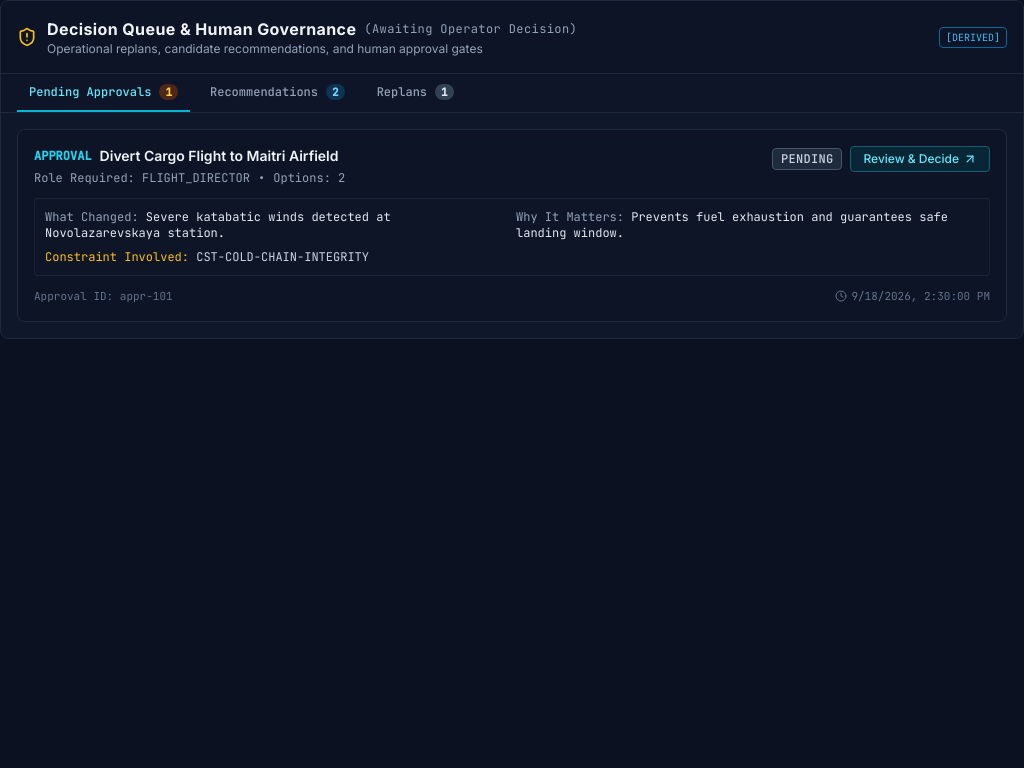
Test case: DecisionQueuePanel › switches to recommendations tab and displays candidate items
Click the tab with test id "tab-recommendations" at (277, 93), box [198,74,357,112]
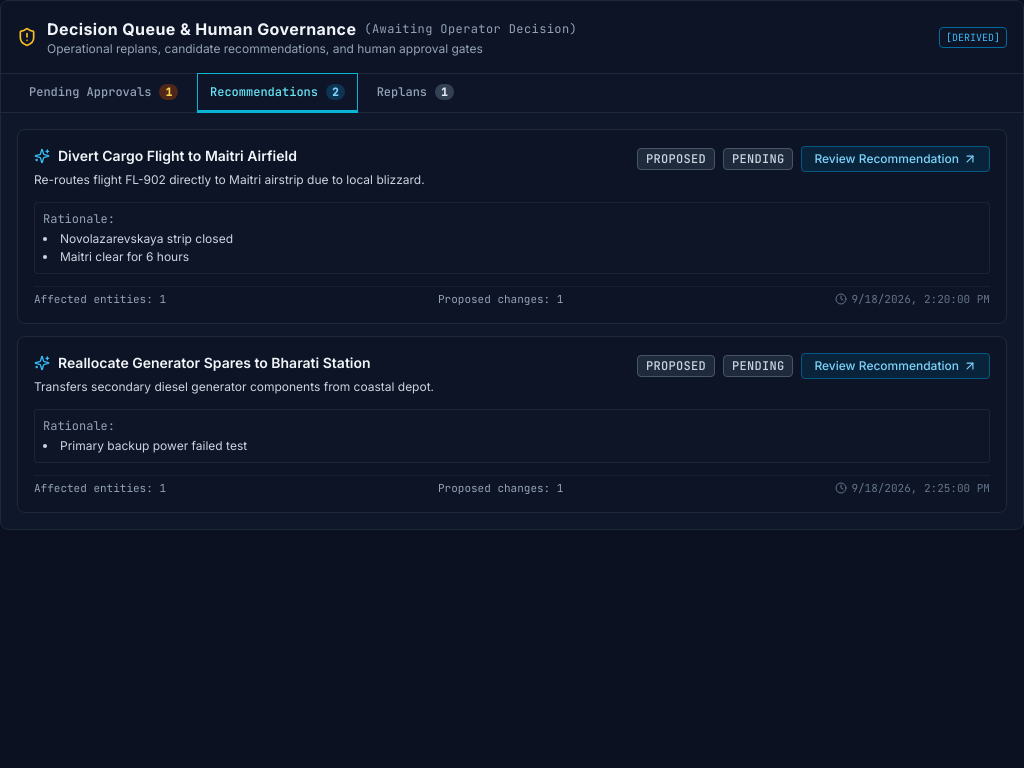
Expected: the heading "Reallocate Generator Spares to Bharati Station" is shown, [58,353,371,373]
Expected: the text "Transfers secondary diesel generator components from coastal depot." is shown, [34,377,434,396]
Expected: the list item "Primary backup power failed test" is shown, [60,438,247,452]
